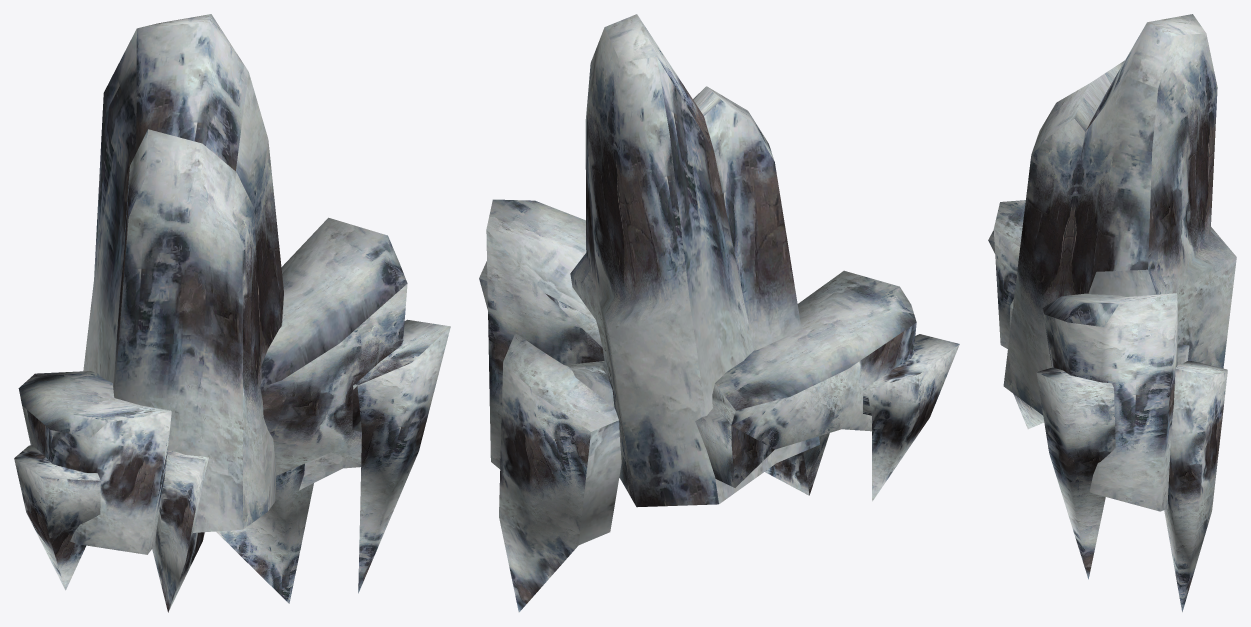
Rendered from S_Rock_White023.FBX.
3 views of the same model, side by side, from view 1: azimuth 30°, elevation 25°; view 2: azimuth 150°, elevation 25°; view 3: azimuth 270°, elevation 25° (orthographic). The views are drawn at different scales.
Visible parts, largest first — view 1: S_Rock_White023; view 2: S_Rock_White023; view 3: S_Rock_White023.
Boxes of the visible parts, <box> form: S_Rock_White023: <box>14,14,450,612</box>; S_Rock_White023: <box>479,14,959,612</box>; S_Rock_White023: <box>988,14,1236,612</box>.
Bounding box in the file's own units: 1126 × 623 × 1514.
